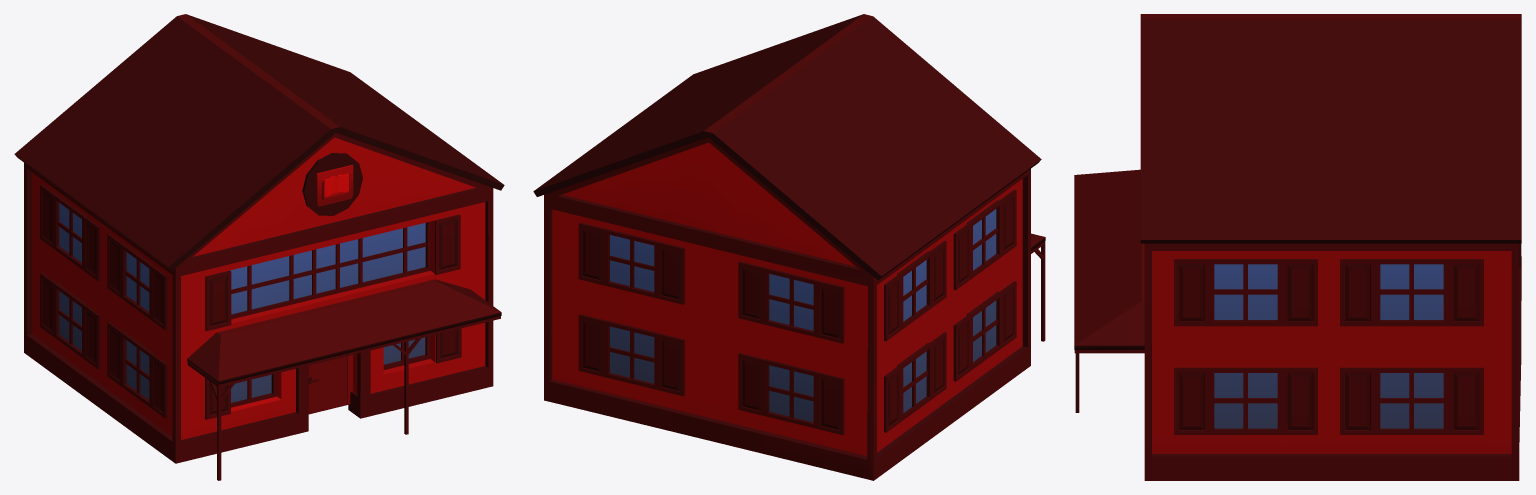
Rendered from buildings-business-library_v1.fbx.
3 views of the same model, side by side, from view 1: azimuth 30°, elevation 25°; view 2: azimuth 150°, elevation 25°; view 3: azimuth 270°, elevation 25° (orthographic). The views are drawn at different scales.
Parts seen in each view (by area): view 1: Library_base, Library_windowRefl; view 2: Library_base, Library_windowRefl; view 3: Library_base, Library_windowRefl.
Boxes of the visible parts, bbox=[...] form: Library_base: bbox=[14, 14, 504, 480]; Library_windowRefl: bbox=[59, 203, 425, 402]; Library_base: bbox=[533, 14, 1045, 480]; Library_windowRefl: bbox=[610, 209, 996, 422]; Library_base: bbox=[1074, 14, 1521, 480]; Library_windowRefl: bbox=[1214, 264, 1443, 428].
Size of the model in its own units: 12.19 by 10.34 by 11.38.
